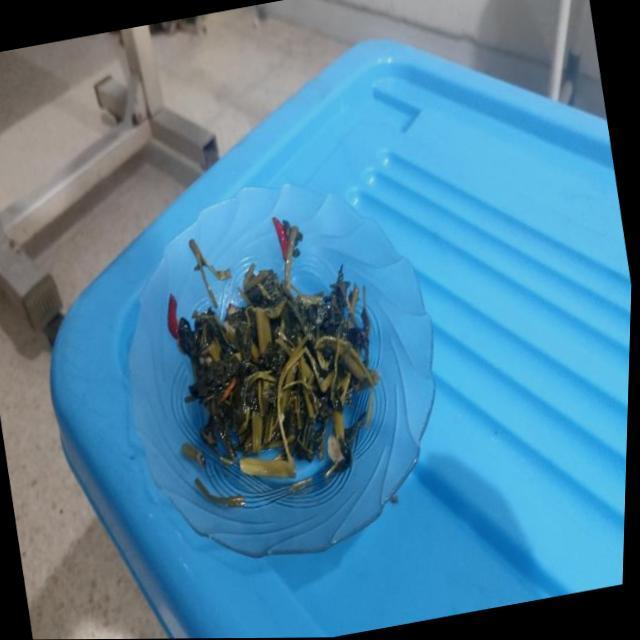tumis_kangkung: (178, 235, 379, 477)
